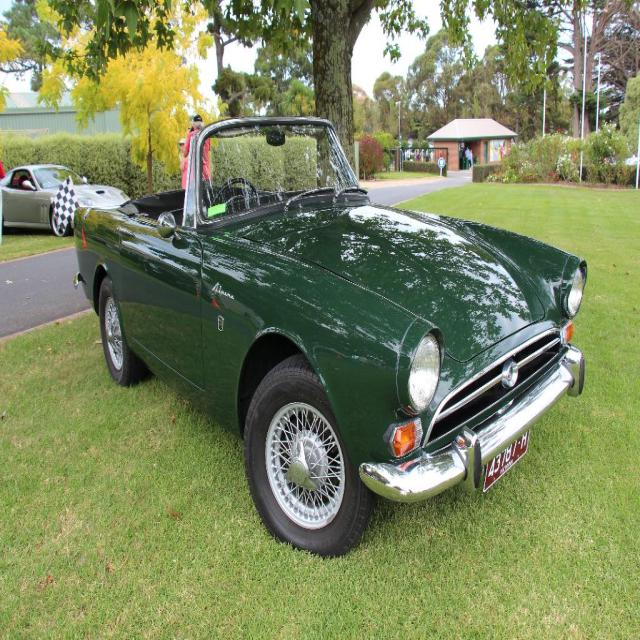car: (77, 136, 571, 542)
